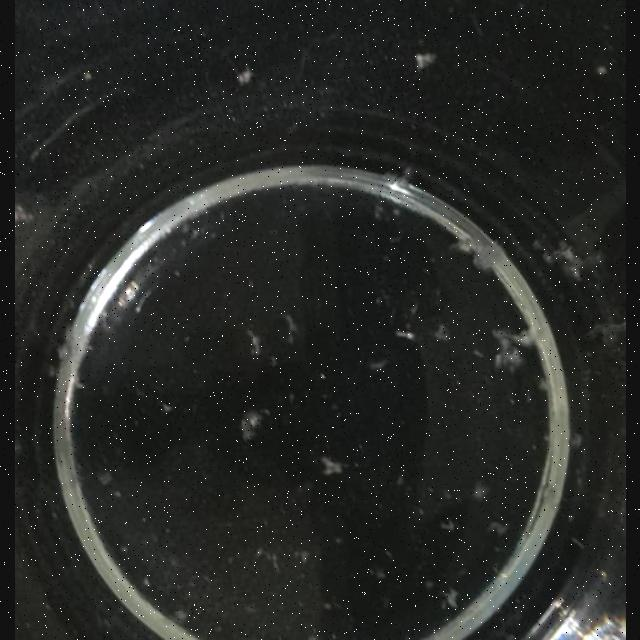Fibre: (490, 328, 530, 372), (255, 546, 283, 574), (240, 410, 264, 440), (279, 312, 299, 344), (245, 329, 262, 356), (322, 456, 344, 476), (470, 482, 490, 502), (440, 588, 460, 608), (487, 520, 509, 538), (433, 323, 451, 342)
microbeads: (416, 52, 436, 72), (236, 66, 254, 85)
